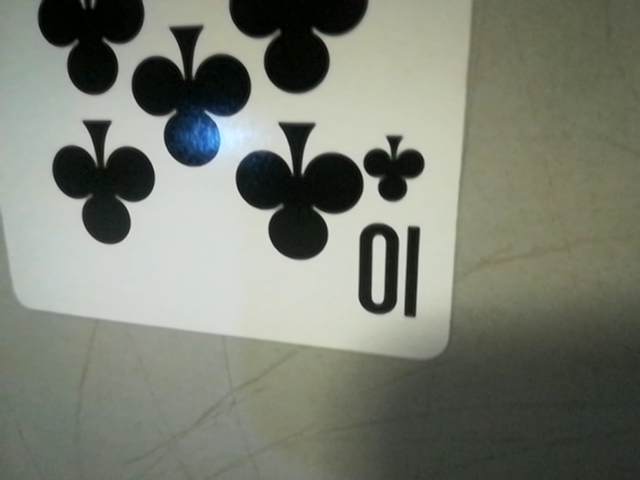mh 10: (348, 110, 443, 337)
